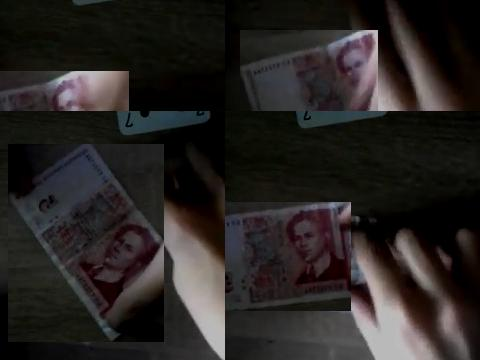5leva: (8, 144, 164, 342), (225, 202, 351, 311), (240, 30, 378, 111)
